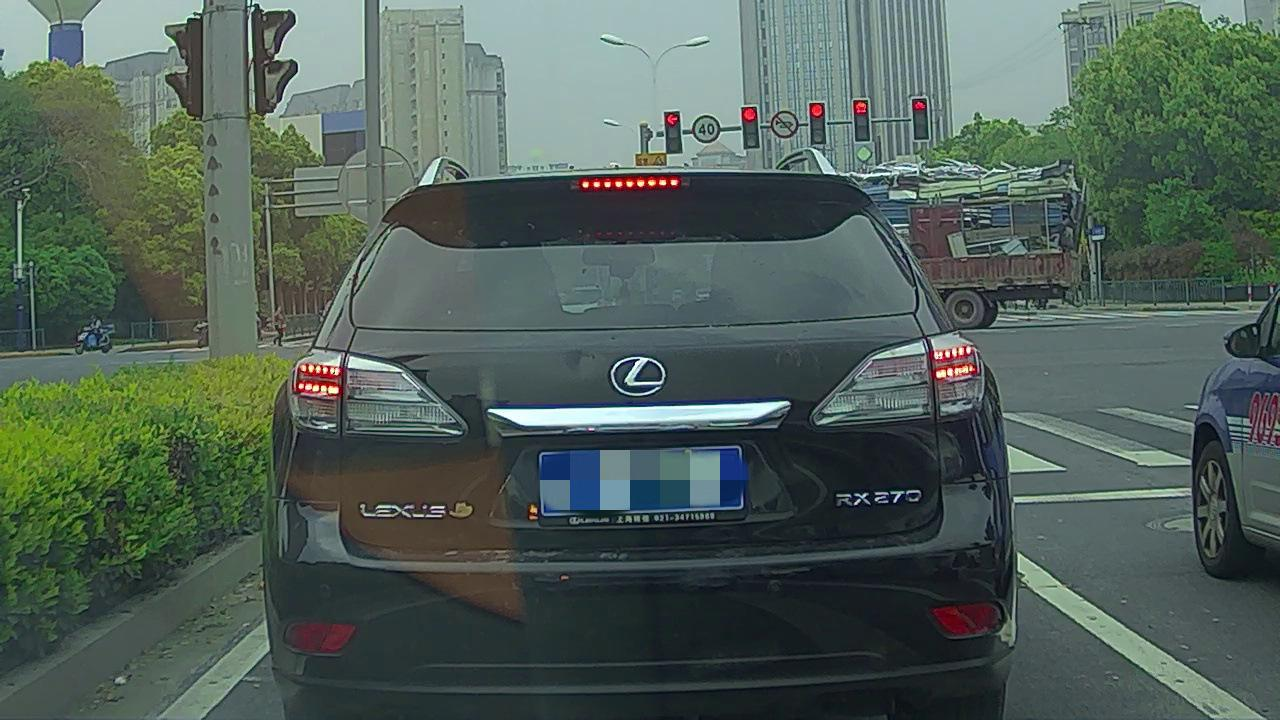traffic_light: (853, 98, 872, 141), (741, 107, 759, 151), (912, 97, 930, 140), (809, 102, 826, 146), (664, 111, 682, 152)
